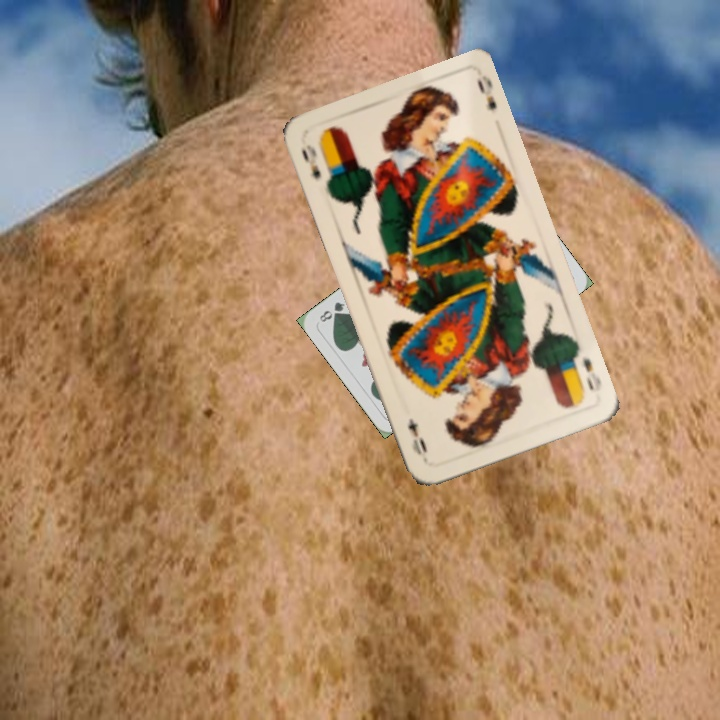EO: (297, 140, 324, 182), (578, 354, 604, 396)
